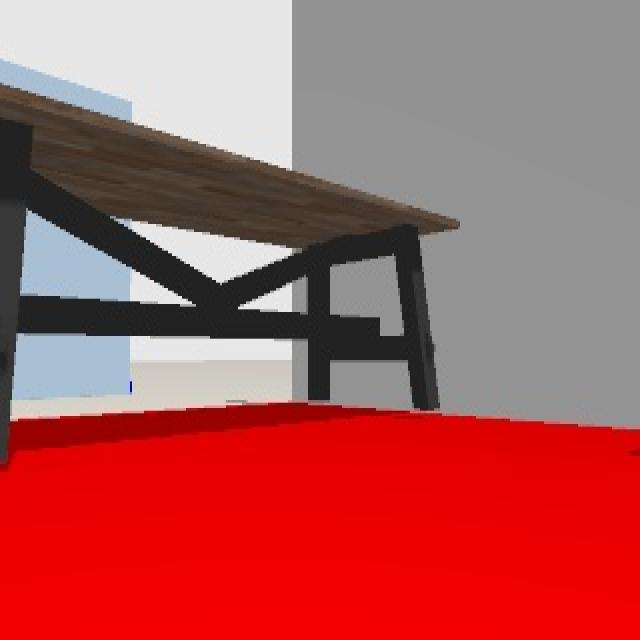dining: (0, 77, 460, 419)
